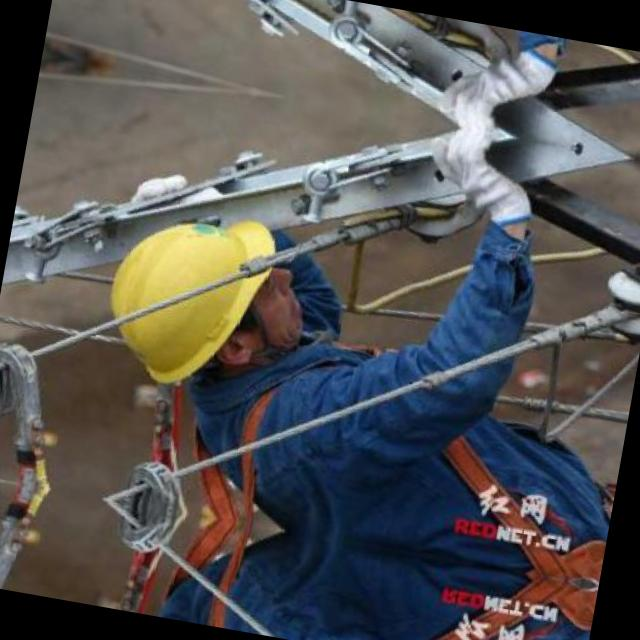helmet: (87, 199, 313, 405)
